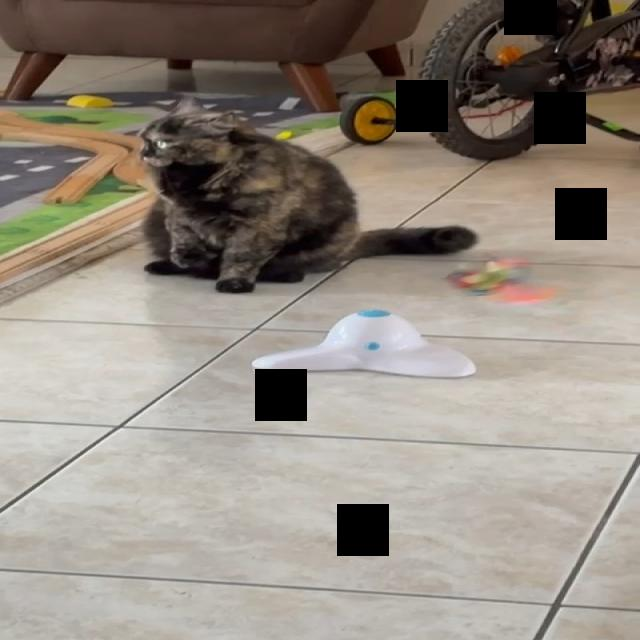authorized: (135, 96, 477, 293)
